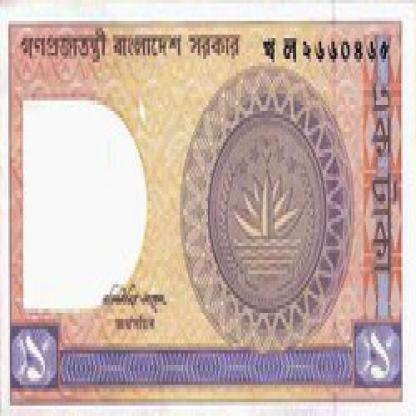One Taka: (370, 76, 400, 278), (354, 326, 401, 388), (12, 326, 58, 388)
